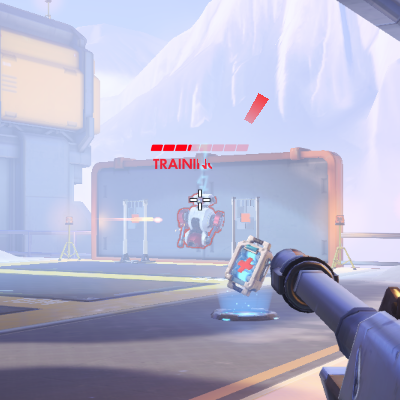hpbar: (150, 143, 249, 152)
